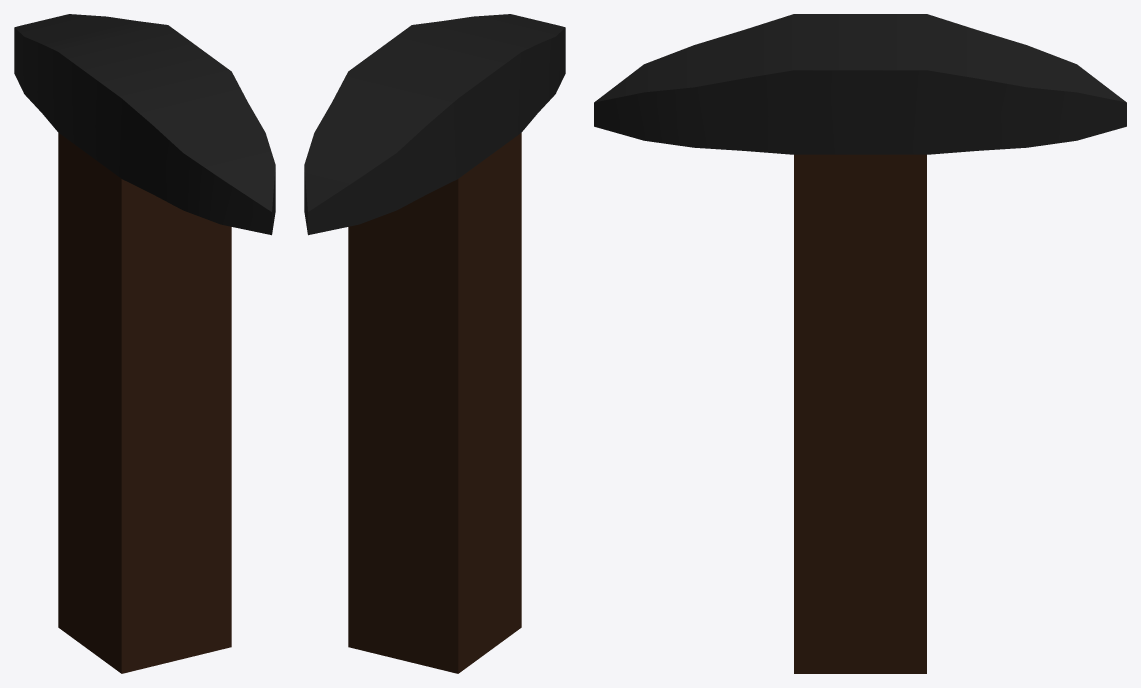
Rendered from axe.obj.
3 views of the same model, side by side, from view 1: azimuth 30°, elevation 25°; view 2: azimuth 150°, elevation 25°; view 3: azimuth 270°, elevation 25° (orthographic). The views are drawn at different scales.
Visible parts, largest first — view 1: Cube, Cube.001; view 2: Cube, Cube.001; view 3: Cube, Cube.001.
Boxes of the visible parts, x1,y1,x2,y2 form: Cube: [58, 133, 231, 673]; Cube.001: [14, 14, 275, 235]; Cube: [348, 133, 521, 673]; Cube.001: [304, 14, 565, 235]; Cube: [794, 154, 926, 673]; Cube.001: [594, 14, 1126, 154].
Bounding box in the file's own units: 0.1 × 0.5 × 0.4.
